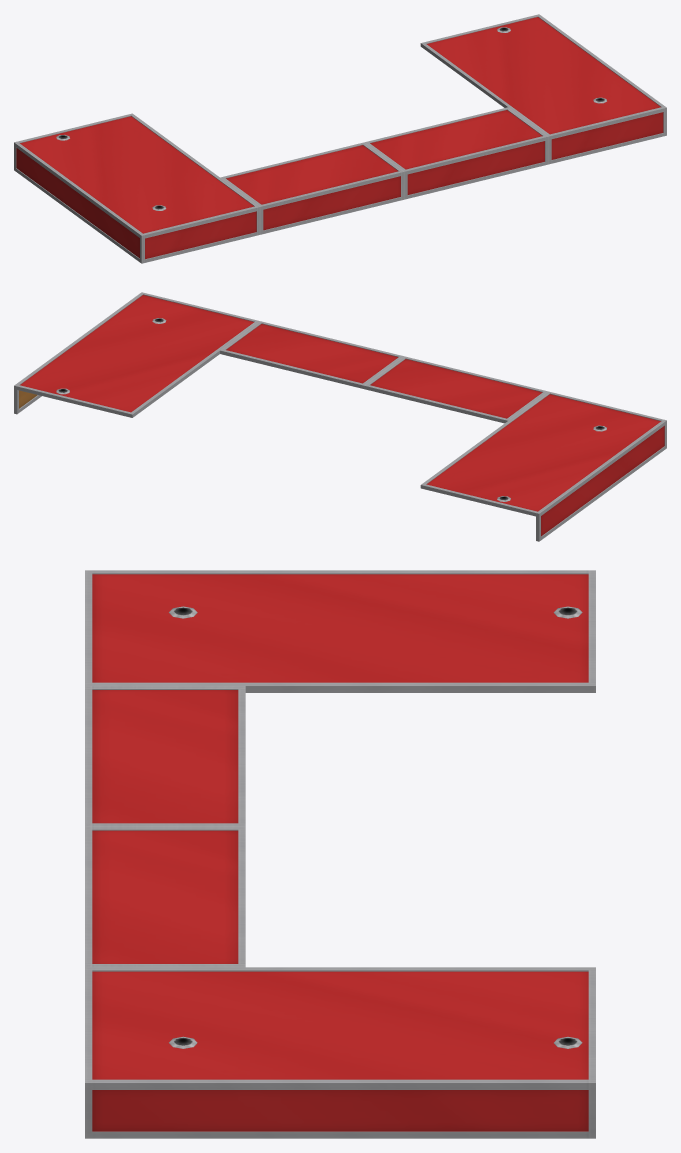
Rendered from jsf_4P_s02_c06_t03_DX.fbx.
3 renders of one model, top to bottom at view 1: azimuth 30°, elevation 25°; view 2: azimuth 150°, elevation 25°; view 3: azimuth 270°, elevation 25°, orthographic. The views are drawn at different scales.
Parts seen in each view (by area): view 1: jsf_4P_s02_c06_t03_DX; view 2: jsf_4P_s02_c06_t03_DX; view 3: jsf_4P_s02_c06_t03_DX.
Boxes of the visible parts, bbox=[...] form: jsf_4P_s02_c06_t03_DX: bbox=[14, 14, 666, 263]; jsf_4P_s02_c06_t03_DX: bbox=[14, 292, 666, 541]; jsf_4P_s02_c06_t03_DX: bbox=[85, 570, 595, 1138].
Bounding box in the file's own units: 246 × 12.99 × 104.
